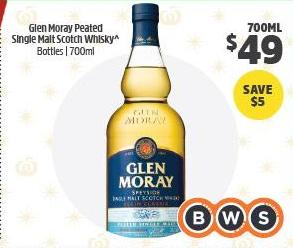description_block: (6, 17, 121, 60)
price_main: (218, 32, 285, 67)
product_image_block: (97, 3, 196, 240)
